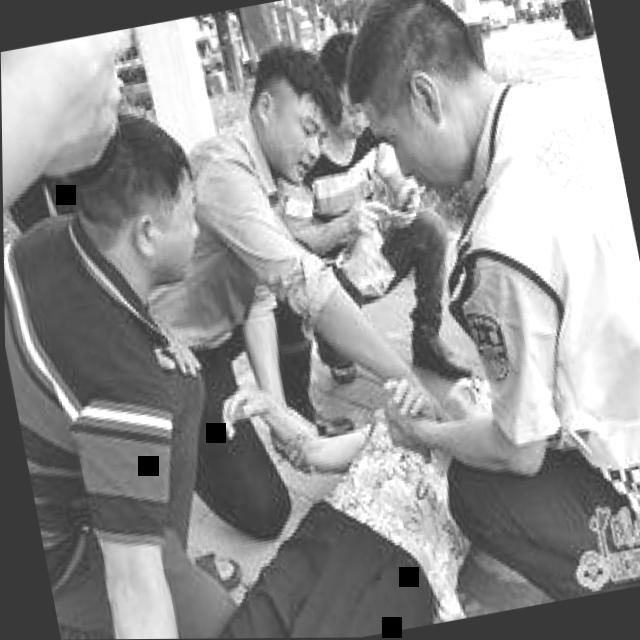Fall-Detected: (72, 315, 510, 640)
